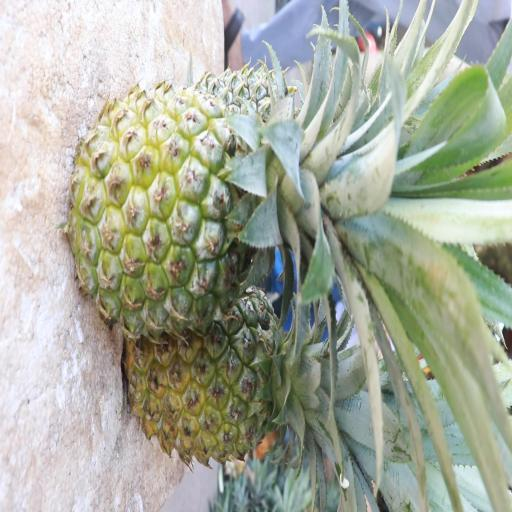------------------------------: (74, 79, 342, 330)
Pineapple - v8 v1: (124, 291, 332, 465)
